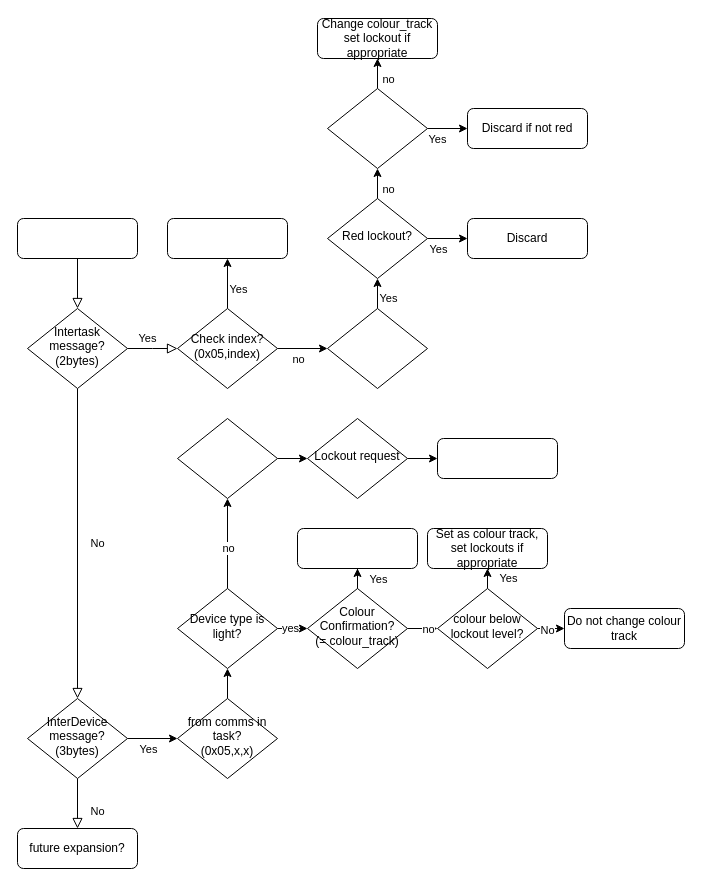
Some shapes in this 702 by 886 pixel diagram are drawn without their labels. The centre of each missing label's shape, as x and y in pixels:
Button press? (0x04,button): (377,348)
Compare and mark relevance, add to internal table: (227,238)
Device type is controller?: (227,458)
Mark as confirmed: (357,548)
Message arrives in message stream: (77,238)
Set lockout: (497,458)
Yellow lockout?: (377,128)
